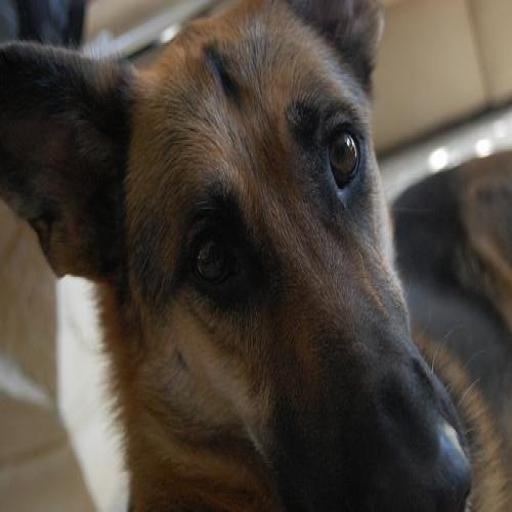dog_face: (4, 16, 476, 507)
